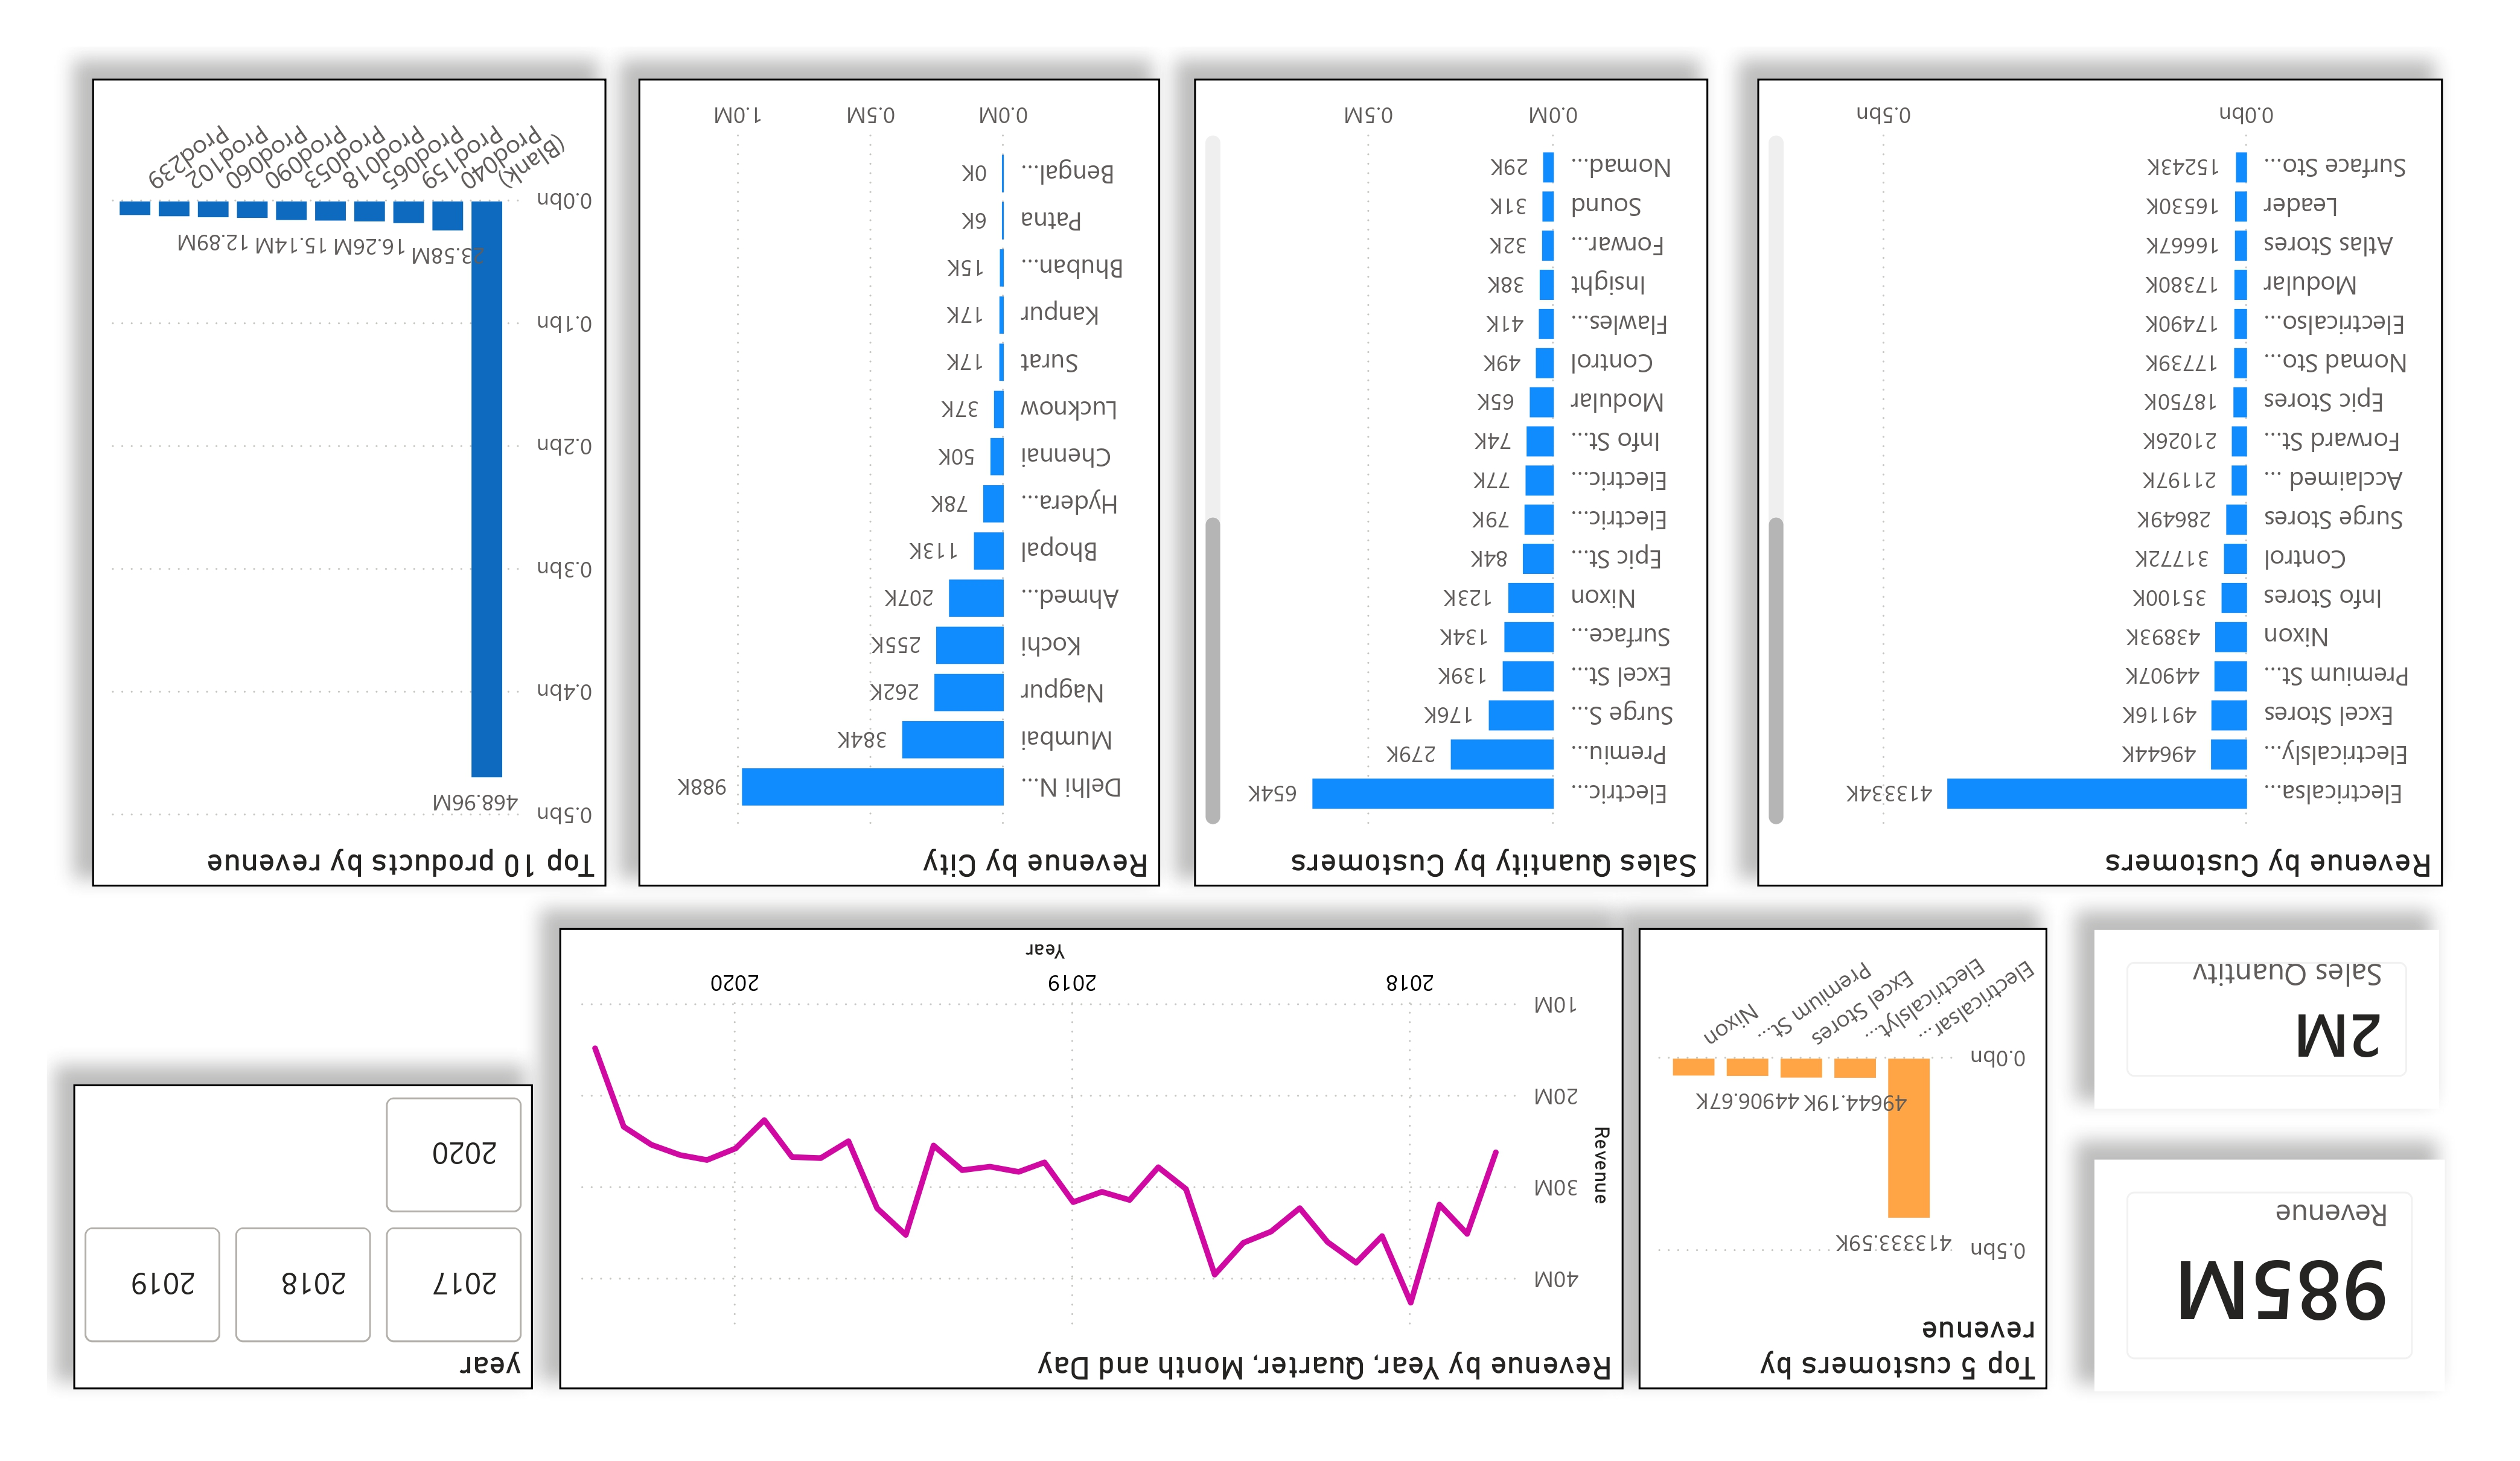

The page's visual inventory and layout, read from the dashboard file:
{"tool":"powerbi","page":{"name":"Page 1","canvas":[1288,727],"ordinal":0},"visuals":[{"type":"cardVisual","fields":{"Data":["BaseMeasure.Revenue"]},"box":[15,12.5,186.2,123.8],"z":0},{"type":"cardVisual","fields":{"Data":["BaseMeasure.Sales Quantity"]},"box":[17.5,162.5,183.8,95],"z":1000},{"type":"barChart","title":"Revenue by Customers","fields":{"Y":["BaseMeasure.Revenue"],"Category":["customers.custmer_name"]},"box":[15.7,281.4,364.3,428.6],"z":2000},{"type":"barChart","title":"Sales Quantity by Customers","fields":{"Y":["BaseMeasure.Sales Quantity"],"Category":["customers.custmer_name"]},"box":[405.7,281.4,272.9,428.6],"z":3000},{"type":"barChart","title":"Revenue by City","fields":{"Y":["BaseMeasure.Sales Quantity"],"Category":["markets.markets_name"]},"box":[697.1,281.4,277.1,428.6],"z":4000},{"type":"clusteredColumnChart","title":"Top 5 customers by revenue","fields":{"Category":["customers.custmer_name"],"Y":["BaseMeasure.Revenue"]},"box":[226.2,13.8,216.2,245],"z":5000},{"type":"columnChart","title":"Top 10 products by revenue","fields":{"Y":["BaseMeasure.Revenue"],"Category":["products.product_code"]},"box":[991.4,281.4,272.9,428.6],"z":6000},{"type":"lineChart","fields":{"Y":["BaseMeasure.Revenue"],"Category":["date.cy_date.Variation.Date Hierarchy.Year","date.cy_date.Variation.Date Hierarchy.Quarter","date.cy_date.Variation.Date Hierarchy.Month","date.cy_date.Variation.Date Hierarchy.Day"]},"box":[451.4,14.3,564.3,244.3],"z":7000},{"type":"advancedSlicerVisual","fields":{"Values":["date.year"]},"box":[1030,14.3,244.3,161.4],"z":8000}]}

Visuals, with their boxes on the page's 1288x727 design canvas (x1, y1, x2, y2). These are canvas units, not pixel positions in the 2520x1461 screenshot, which may show the page scaled, cropped or inside an application window:
cardVisual - BaseMeasure.Revenue: left=15, top=12, right=201, bottom=136
cardVisual - BaseMeasure.Sales Quantity: left=18, top=162, right=201, bottom=258
"Revenue by Customers" barChart: left=16, top=281, right=380, bottom=710
"Sales Quantity by Customers" barChart: left=406, top=281, right=679, bottom=710
"Revenue by City" barChart: left=697, top=281, right=974, bottom=710
"Top 5 customers by revenue" clusteredColumnChart: left=226, top=14, right=442, bottom=259
"Top 10 products by revenue" columnChart: left=991, top=281, right=1264, bottom=710
lineChart - BaseMeasure.Revenue x date.cy_date.Variation.Date Hierarchy.Year: left=451, top=14, right=1016, bottom=259
advancedSlicerVisual - date.year: left=1030, top=14, right=1274, bottom=176
